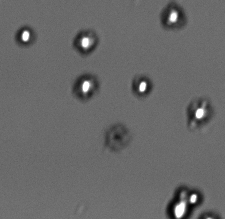Dead Cell: (105, 122, 134, 151)
Living Cell: (72, 74, 100, 100), (73, 29, 100, 55), (159, 4, 187, 28), (187, 99, 212, 125), (131, 75, 155, 97), (15, 25, 35, 47), (187, 187, 203, 206)
